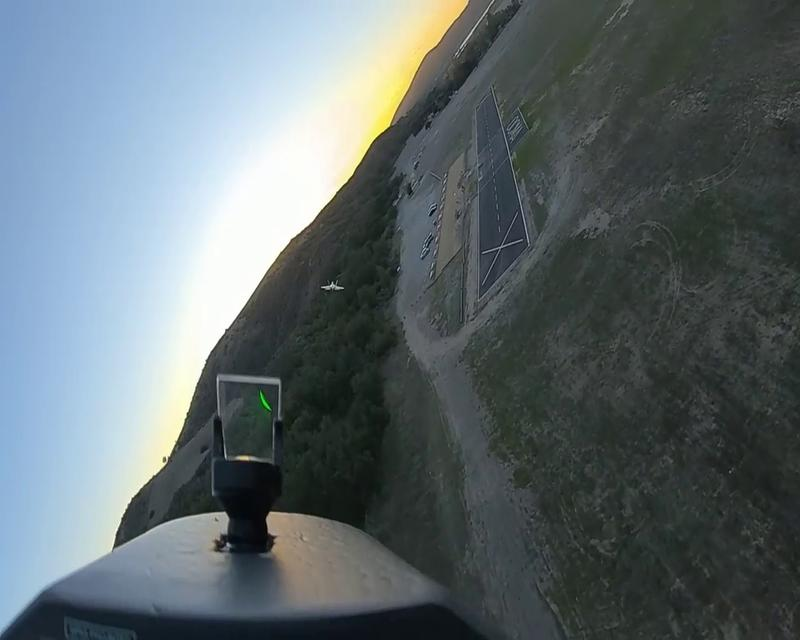UAV: (321, 280, 345, 293)
